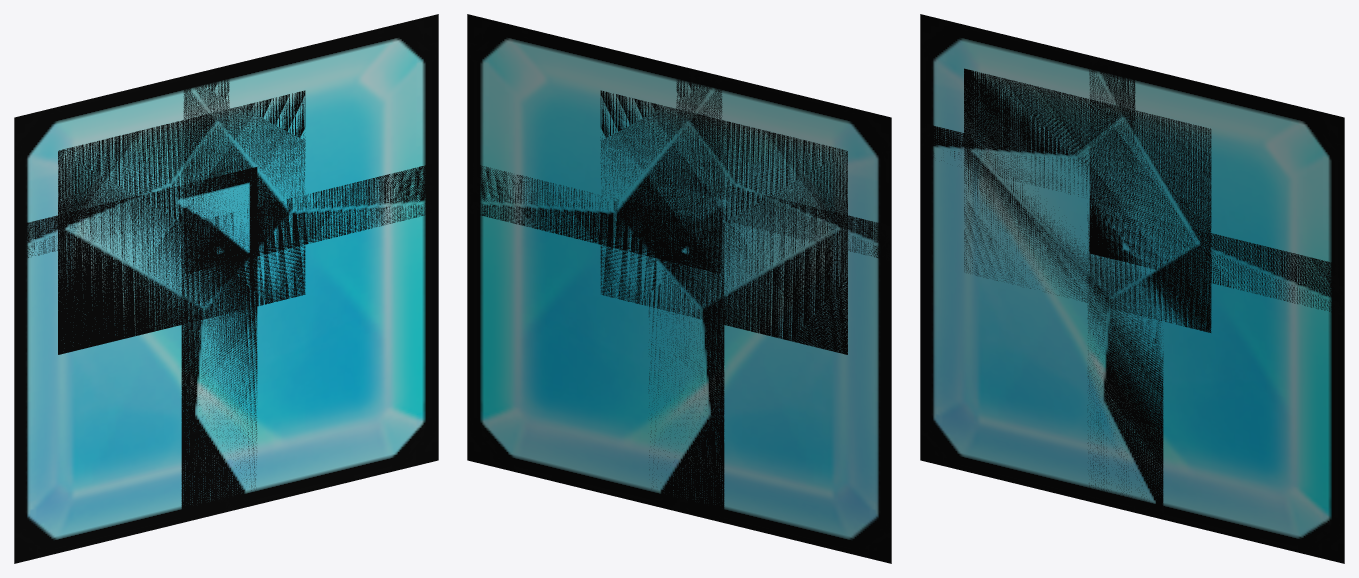
Rendered from IceVFX.glb.
3 views of the same model, side by side, from view 1: azimuth 30°, elevation 25°; view 2: azimuth 150°, elevation 25°; view 3: azimuth 330°, elevation 25° (orthographic).
Parts seen in each view (by area): view 1: IceVFX; view 2: IceVFX; view 3: IceVFX.
Boxes of the visible parts, box(x1,y1,x2,y2) form: IceVFX: box(14, 14, 438, 563); IceVFX: box(467, 14, 891, 563); IceVFX: box(920, 14, 1344, 563).
Size of the model in its own units: 2.13 by 2.14 by 0.
Materials: 1 (1 with a texture image).
